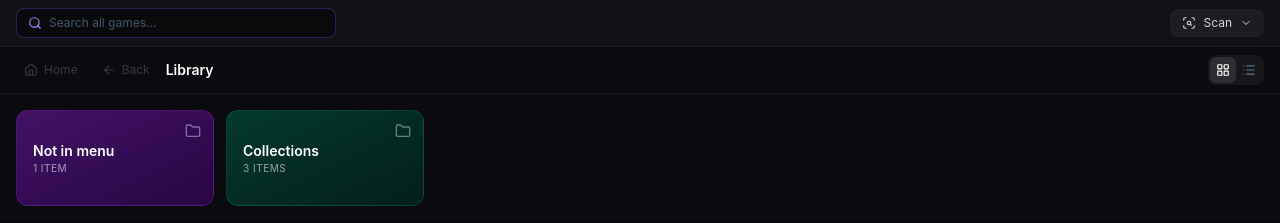
Test: Library smart filters › FR-LIB-9: the built-in smart filters are listed with their counts
Click the button "Collections 3 items" at (325, 158), box x1=226 y1=110 x2=424 y2=206
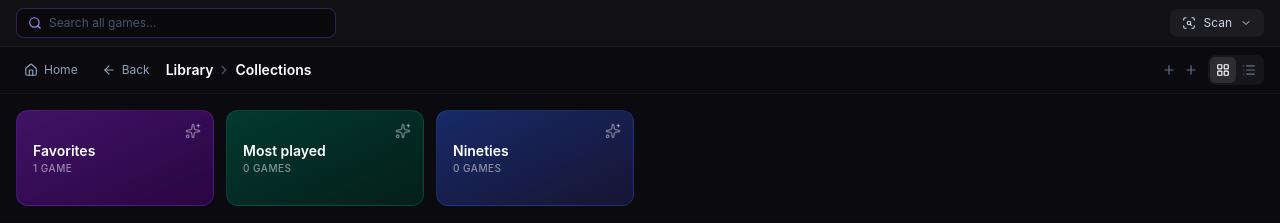
Check: the button "Favorites 1 game" is shown, box x1=16 y1=110 x2=214 y2=206
Check: the button "Most played 0 games" is shown, box x1=226 y1=110 x2=424 y2=206
